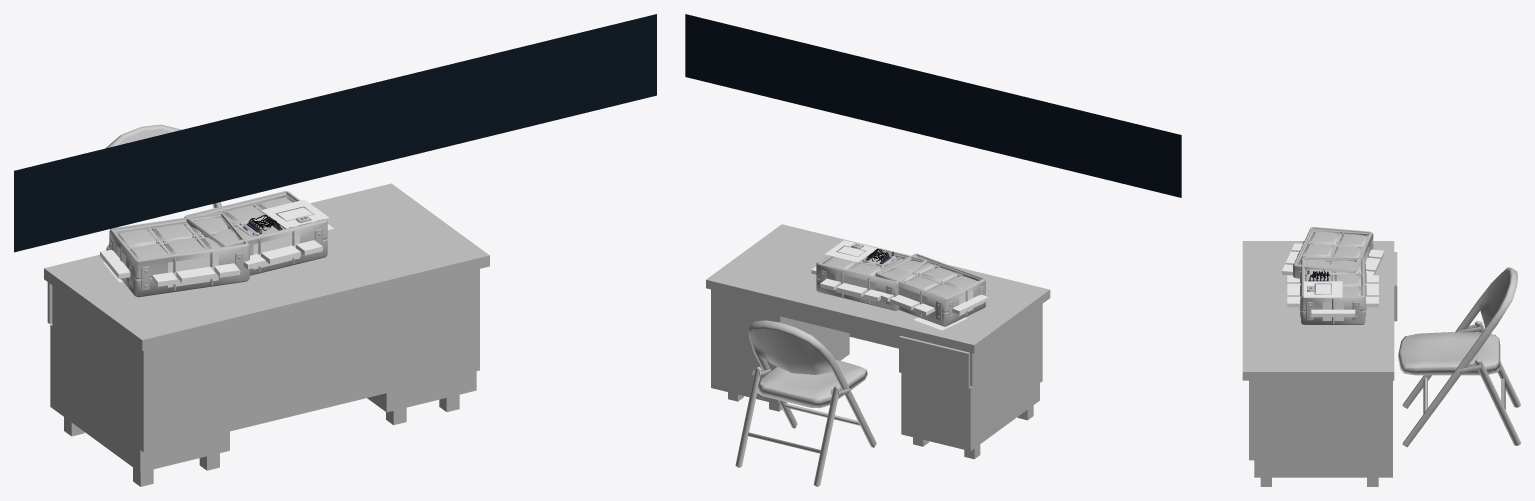
Rendered from TouchControlsTutorialScreen.fbx.
3 views of the same model, side by side, from view 1: azimuth 30°, elevation 25°; view 2: azimuth 150°, elevation 25°; view 3: azimuth 270°, elevation 25° (orthographic). The views are drawn at different scales.
Visible parts, largest first — view 1: Entire, Backing, BombVisual (×2), LightGlow, backing, FaceArea; view 2: Entire, Backing, BombVisual (×2), backing, seat, Shelf, backSupport, LightGlow; view 3: Entire, seat, BombVisual (×2), backing, backSupport, LightGlow.
Part boxes in pixels (bbox=[...]): Entire: bbox=[44, 183, 489, 486]; Backing: bbox=[14, 14, 656, 252]; BombVisual (×2): bbox=[109, 191, 327, 297]; LightGlow: bbox=[261, 199, 329, 228]; backing: bbox=[105, 124, 221, 229]; FaceArea: bbox=[168, 255, 218, 287]; Entire: bbox=[706, 224, 1050, 459]; Backing: bbox=[685, 14, 1181, 197]; BombVisual (×2): bbox=[816, 241, 985, 326]; backing: bbox=[748, 320, 876, 447]; seat: bbox=[757, 359, 867, 408]; Shelf: bbox=[899, 336, 969, 389]; backSupport: bbox=[735, 366, 840, 486]; LightGlow: bbox=[825, 240, 876, 262]; Entire: bbox=[1242, 241, 1394, 486]; seat: bbox=[1398, 332, 1500, 375]; BombVisual (×2): bbox=[1293, 227, 1373, 324]; backing: bbox=[1402, 267, 1517, 447]; backSupport: bbox=[1474, 321, 1520, 445]; LightGlow: bbox=[1304, 281, 1342, 297].
Bounding box in the file's own units: 3.15 × 1.77 × 1.71.
